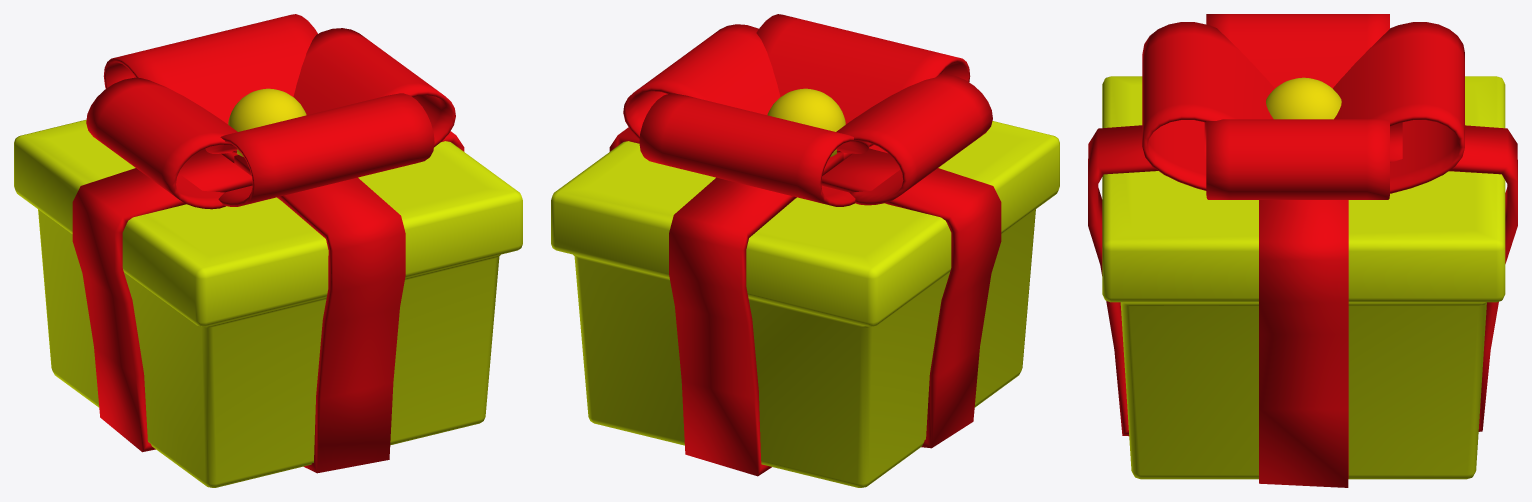
File: present.fbx
The picture shows the model from 3 angles, left to right: view 1: azimuth 30°, elevation 25°; view 2: azimuth 150°, elevation 25°; view 3: azimuth 270°, elevation 25°; orthographic projection. The views are drawn at different scales.
Visible parts, largest first — view 1: Cube, Plane.004, Plane, Plane.005, Plane.003, Sphere; view 2: Cube, Plane.004, Plane.001, Plane.005, Plane.003, Sphere; view 3: Cube, Plane.004, Plane.002, Plane.005, Plane, Plane.001, Sphere.
Part boxes in pixels (x1,y1,x2,y2): Cube: [14, 119, 522, 487]; Plane.004: [103, 14, 434, 206]; Plane: [234, 155, 405, 473]; Plane.005: [86, 28, 455, 209]; Plane.003: [72, 149, 252, 452]; Sphere: [228, 88, 306, 156]; Cube: [551, 121, 1059, 487]; Plane.004: [639, 14, 970, 206]; Plane.001: [669, 152, 843, 476]; Plane.005: [623, 24, 992, 205]; Plane.003: [821, 148, 1001, 448]; Sphere: [767, 88, 845, 156]; Cube: [1102, 76, 1505, 479]; Plane.004: [1142, 22, 1464, 193]; Plane.002: [1259, 200, 1348, 487]; Plane.005: [1206, 14, 1389, 199]; Plane: [1088, 122, 1206, 436]; Plane.001: [1390, 122, 1517, 431]; Sphere: [1266, 77, 1341, 119].
Bounding box in the file's own units: 251 × 225 × 250.
